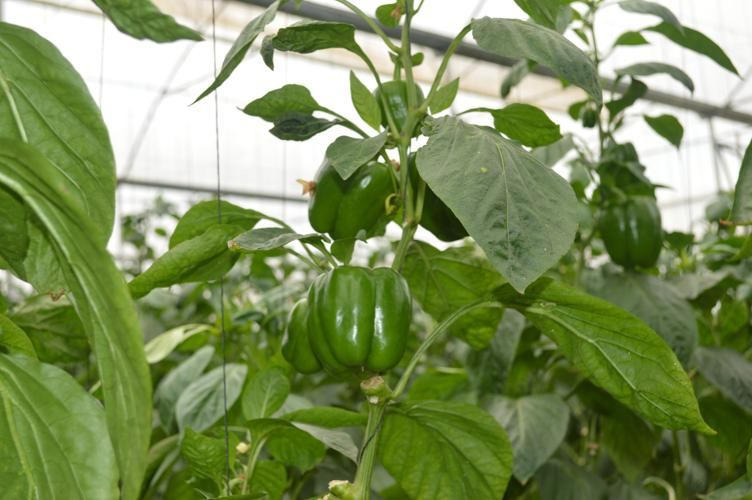BellPepper: (297, 265, 421, 389), (297, 143, 401, 246), (588, 177, 675, 283)
